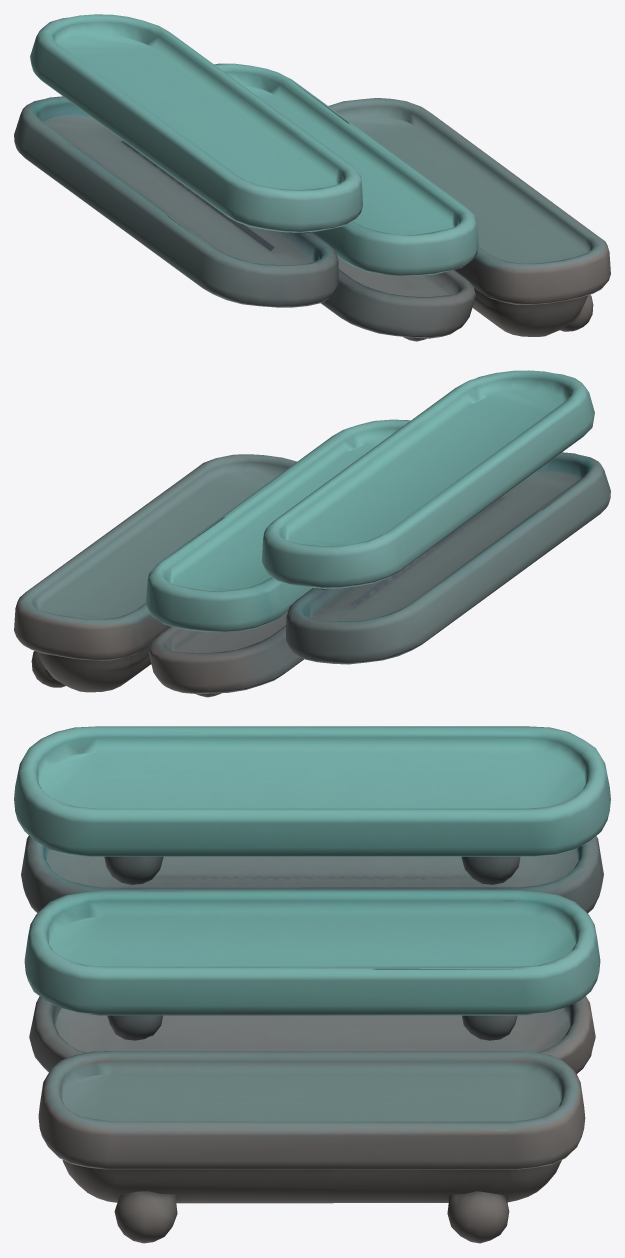
File: icon-queue.glb
3 views of the same model, one above another, from view 1: azimuth 30°, elevation 25°; view 2: azimuth 150°, elevation 25°; view 3: azimuth 270°, elevation 25° (orthographic). The views are drawn at different scales.
Parts seen in each view (by area): view 1: tripo_node_kodyurd-model-60____________________; view 2: tripo_node_kodyurd-model-60____________________; view 3: tripo_node_kodyurd-model-60____________________.
Boxes of the visible parts, <box> form: tripo_node_kodyurd-model-60____________________: <box>14,14,610,341</box>; tripo_node_kodyurd-model-60____________________: <box>14,370,610,697</box>; tripo_node_kodyurd-model-60____________________: <box>14,726,610,1243</box>.
Size of the model in its own units: 0.9434 by 0.5645 by 0.998.
1 material, 1 textured.
